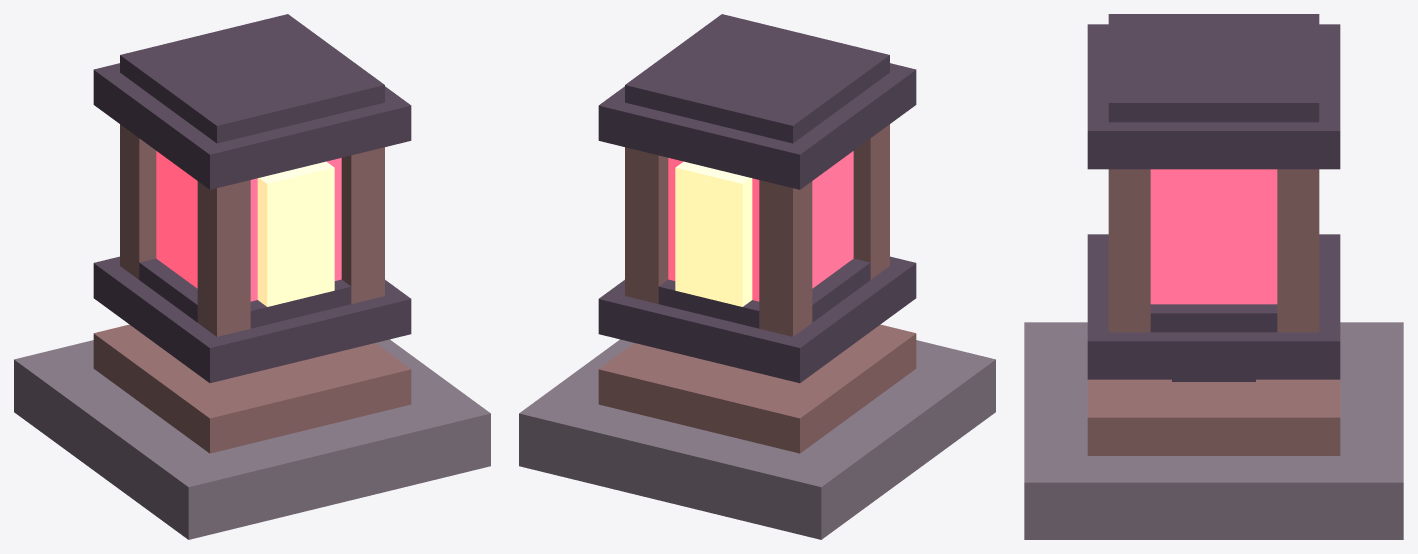
The model's file is standing_blood_lantern.glb.
The picture shows the model from 3 angles, left to right: view 1: azimuth 30°, elevation 25°; view 2: azimuth 150°, elevation 25°; view 3: azimuth 270°, elevation 25°; orthographic projection. The views are drawn at different scales.
Bounding box in the file's own units: 0.75 × 0.875 × 0.75.
